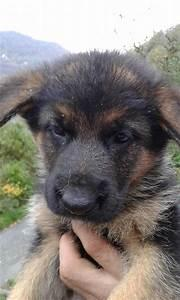dog: (0, 47, 179, 299)
